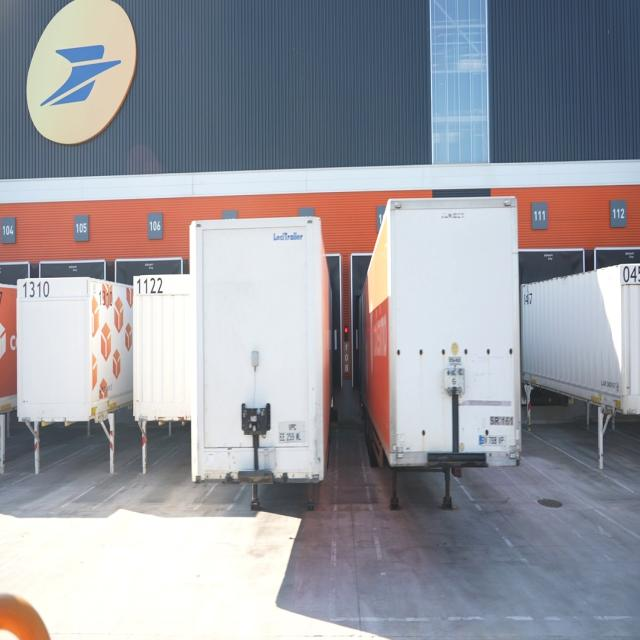Code: (132, 272, 163, 299), (21, 278, 52, 300), (95, 285, 116, 307)
